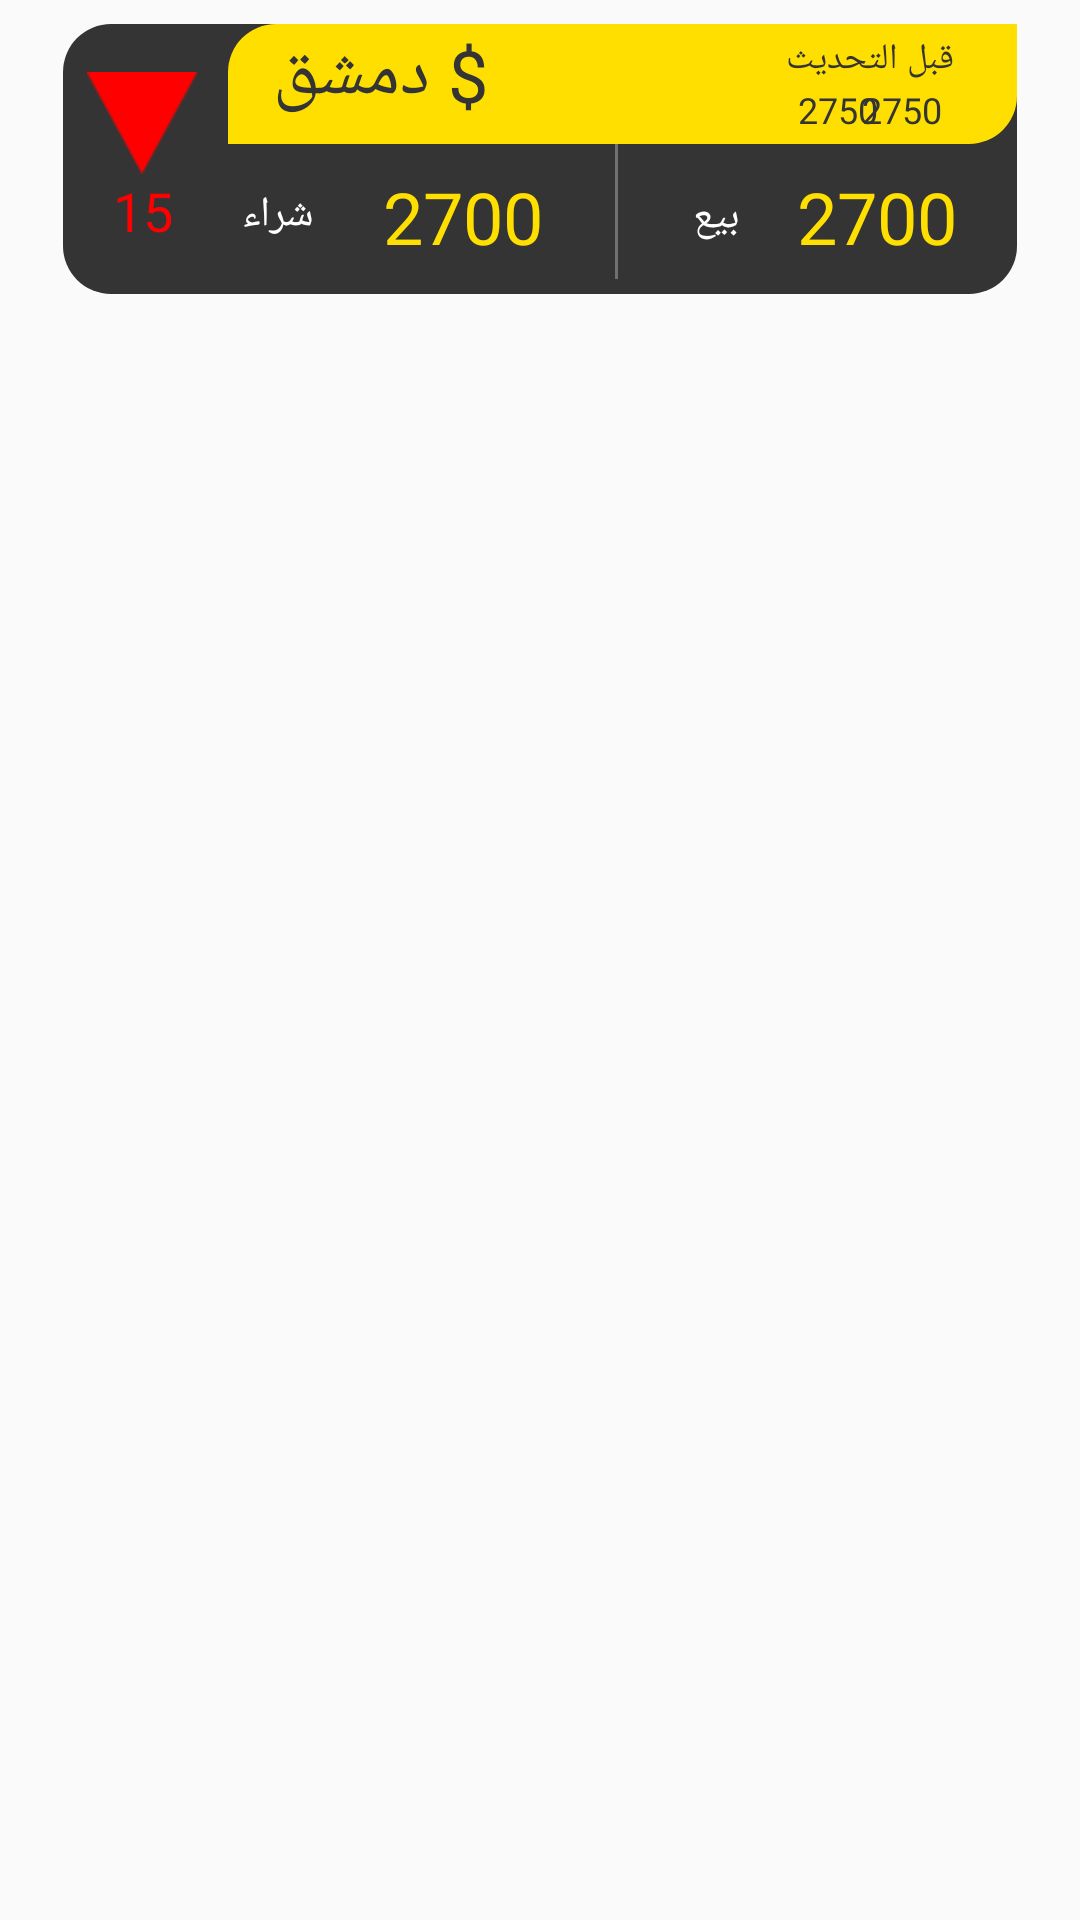

Screen size 1080*1920. Icon name, then its center in pixels as [x,y]:
arrow: [142,123]
